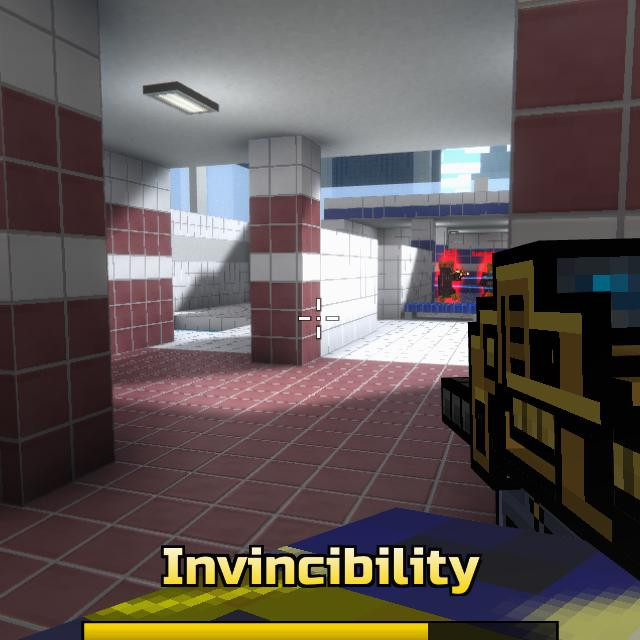Enemy: (438, 261, 463, 303), (480, 262, 494, 297)
